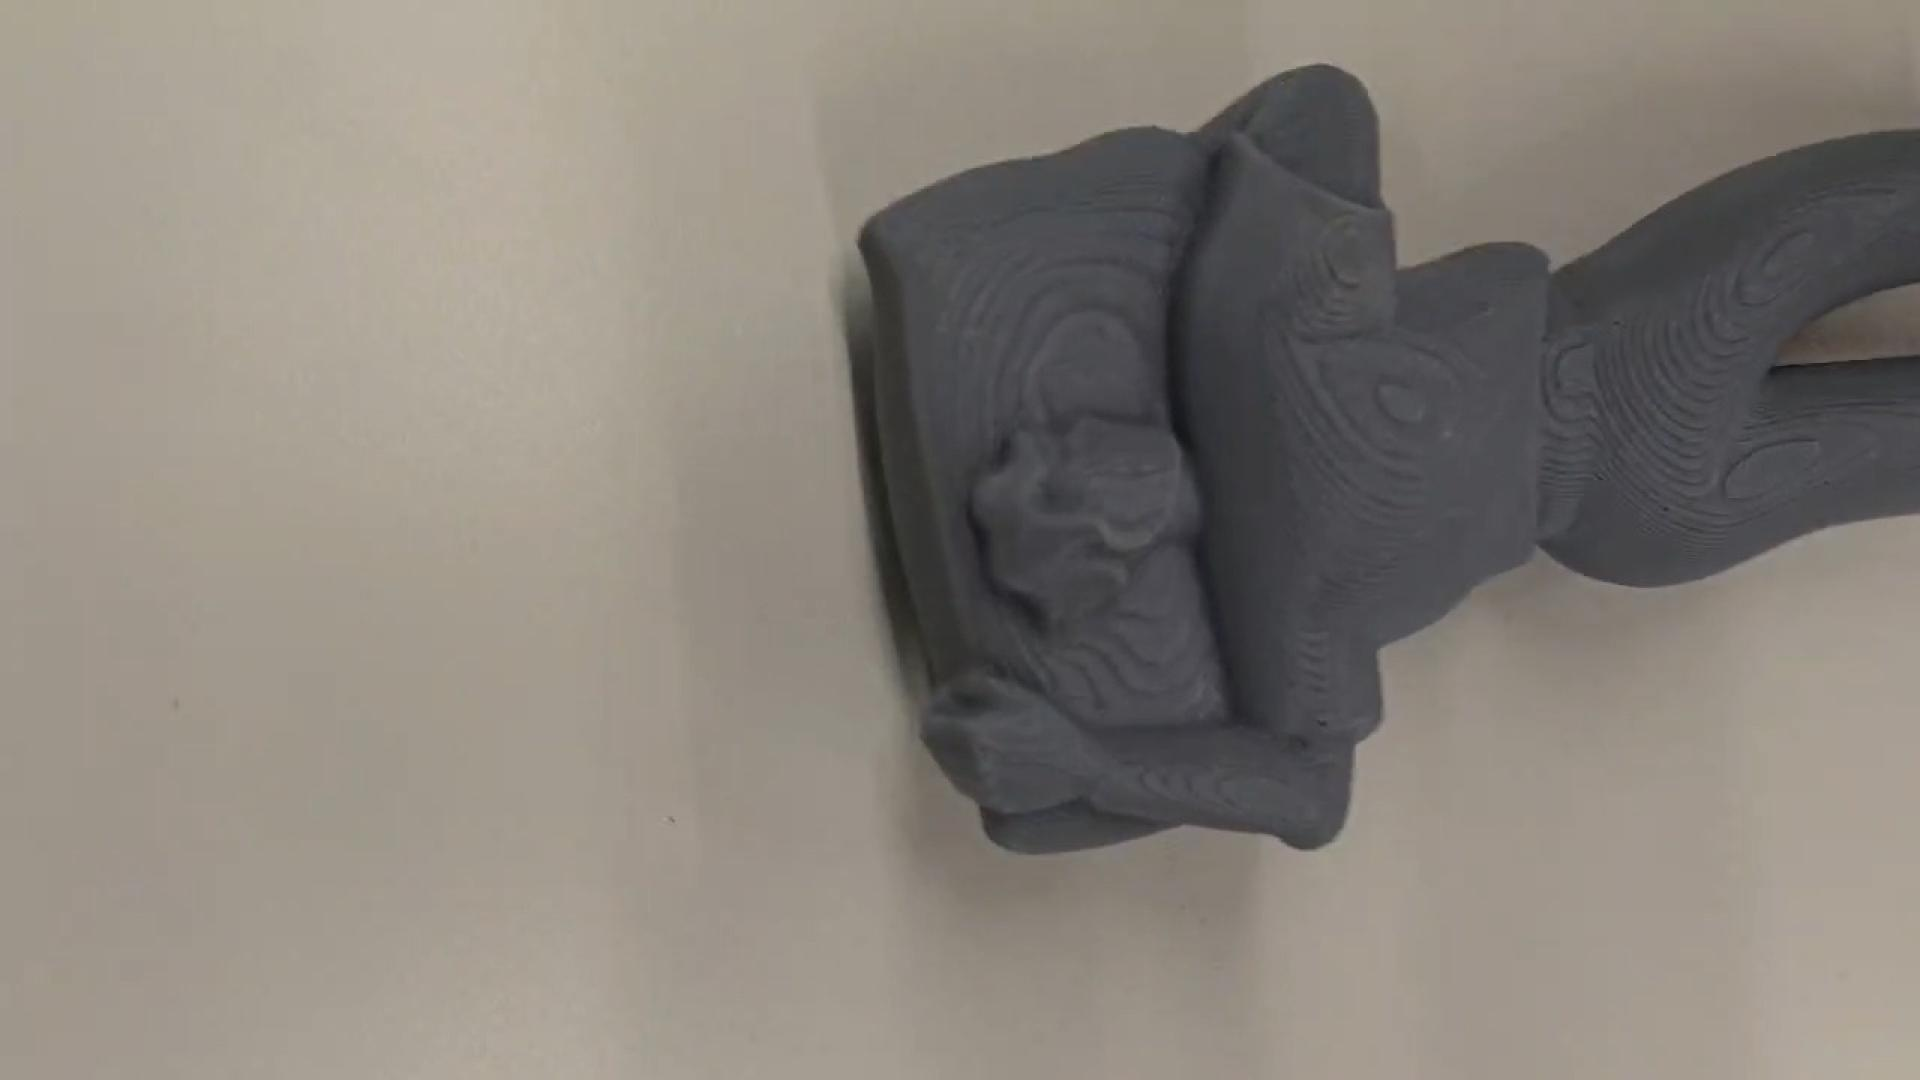Bad-style: (847, 61, 1920, 866)
